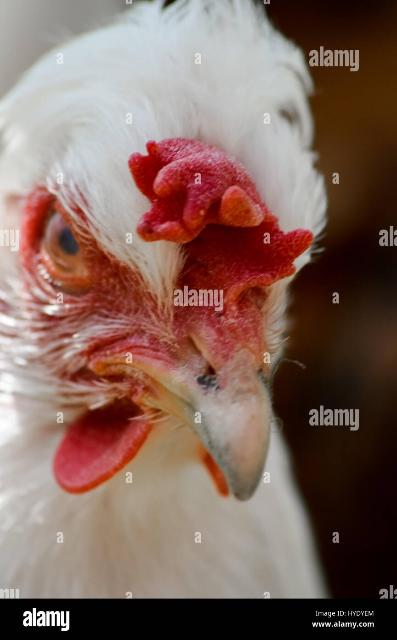Chicken: (0, 0, 332, 599)
